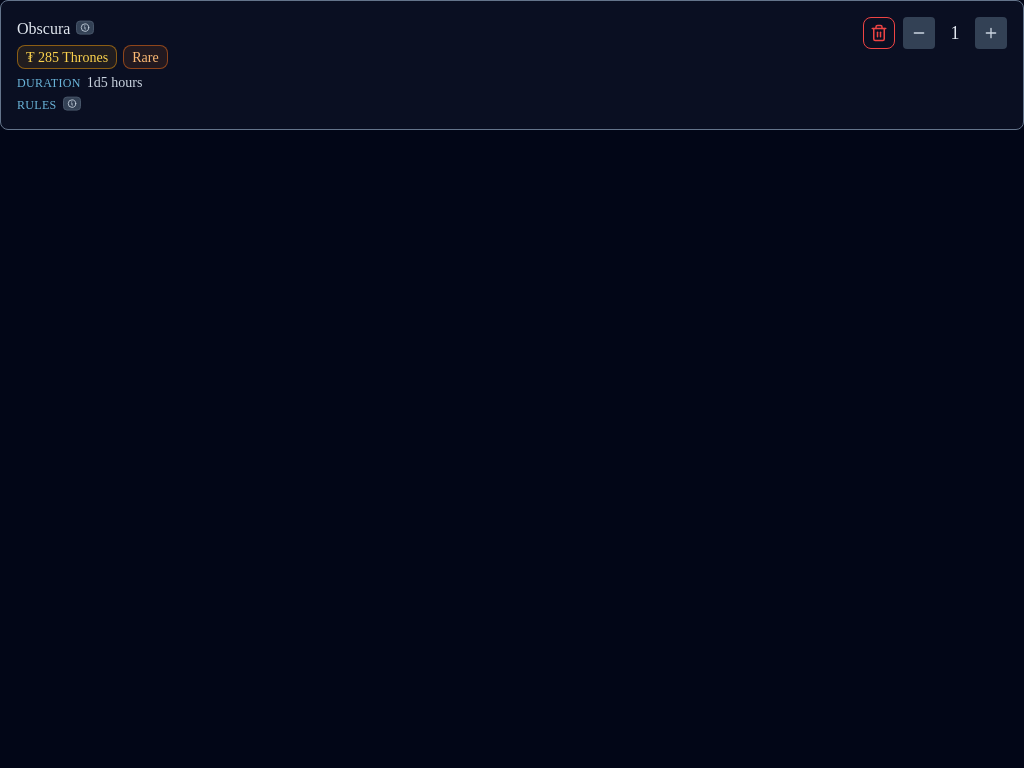
Test: DrugRow › shows real effect/duration/side-effect text from the reference data via the info modal
Step 1. Click the button named "Show information about Obscura Rules" → coordinates (72, 104), box [62,97,80,111]
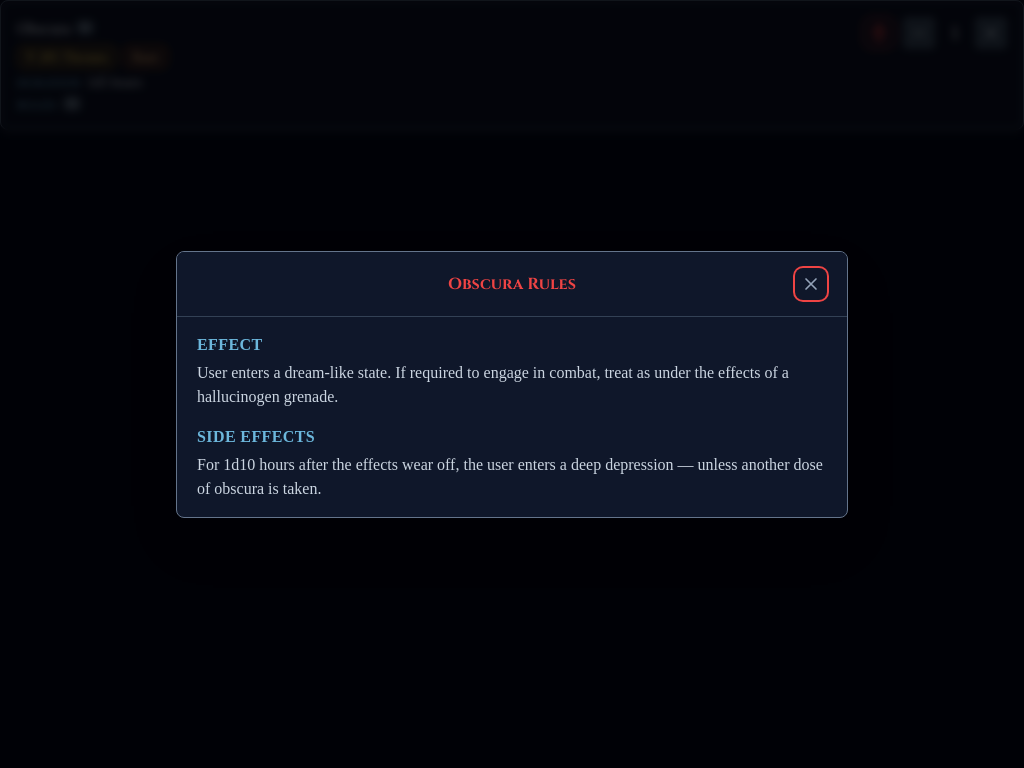
Result: the text "dream-like state" is shown at [197,364,789,404]
